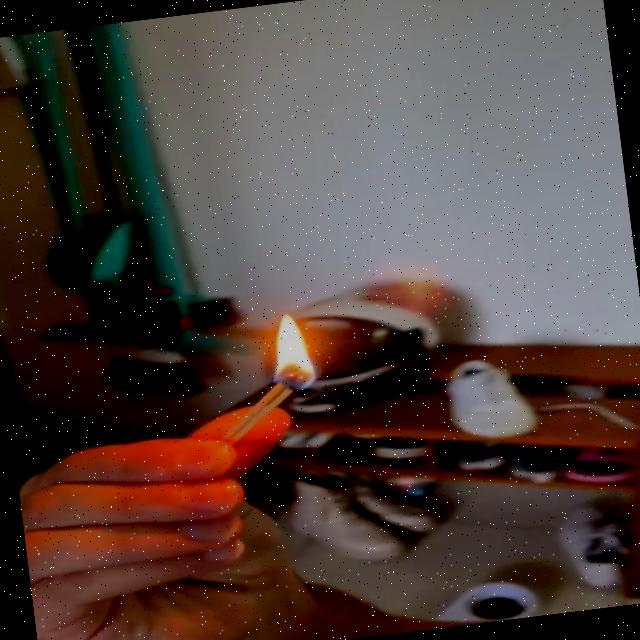fire: (263, 309, 321, 395)
